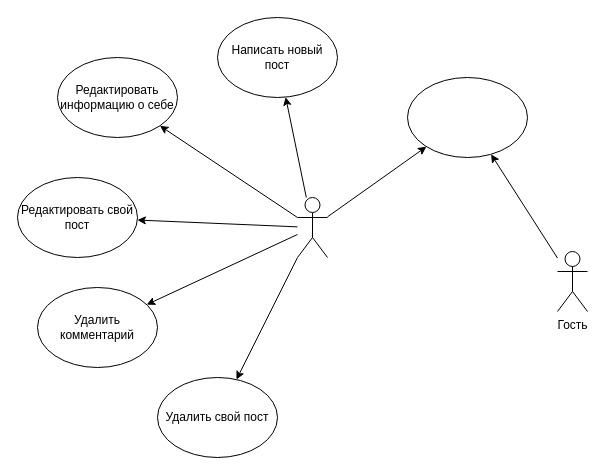
Image size: 605x475. Some labels were removed from this diagram. Here are the shapes that lost their labels. From the top down, the centre of each, then its label:
At pixel 467 117: "Написать комментарий к посту".
At pixel 312 227: "Автор".
